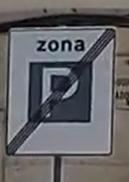fim de zona de estacionamento autorizado: (5, 22, 117, 164)
